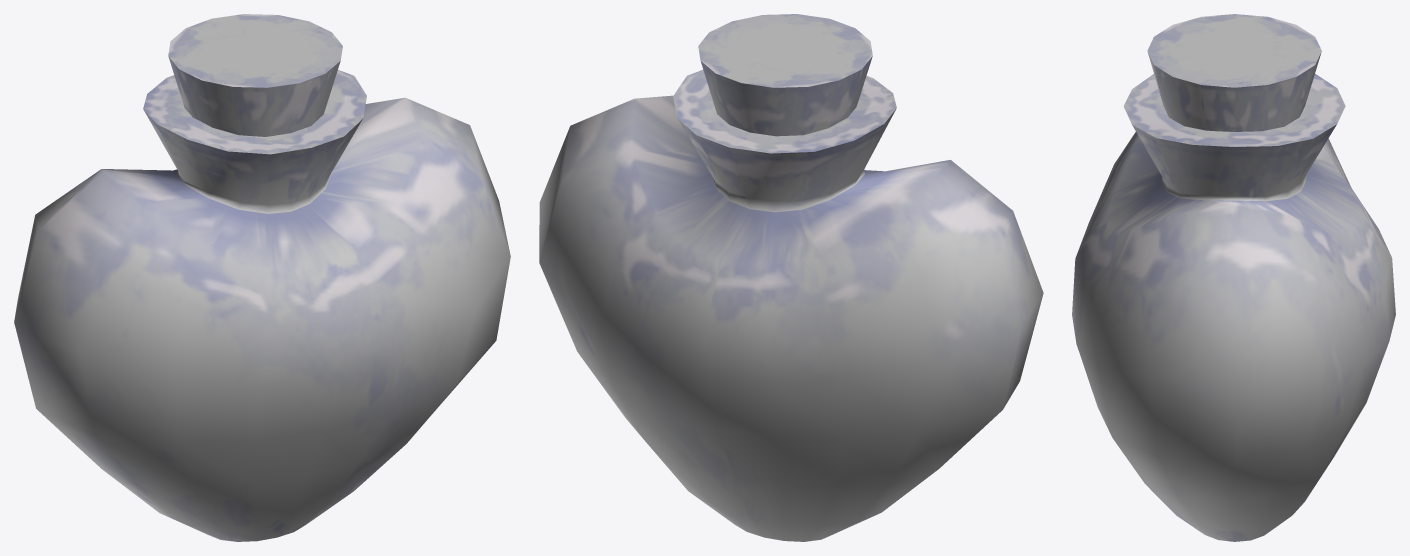
File: Potion_7.fbx
The picture shows the model from 3 angles, left to right: view 1: azimuth 30°, elevation 25°; view 2: azimuth 150°, elevation 25°; view 3: azimuth 270°, elevation 25°; orthographic projection.
Parts seen in each view (by area): view 1: Potion_7; view 2: Potion_7; view 3: Potion_7.
Part boxes in pixels (box(x1,y1,x2,y2)): Potion_7: box(14, 14, 510, 541); Potion_7: box(539, 14, 1043, 541); Potion_7: box(1072, 14, 1395, 541).
Size of the model in its own units: 18.38 by 17.23 by 10.77.
